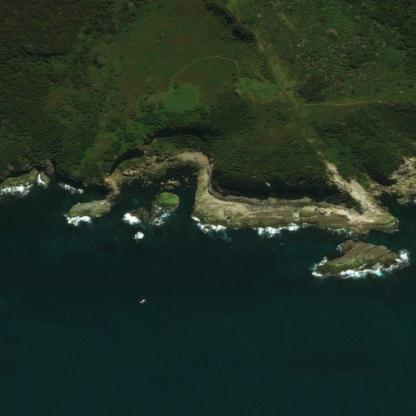ship: (131, 293, 153, 308)
